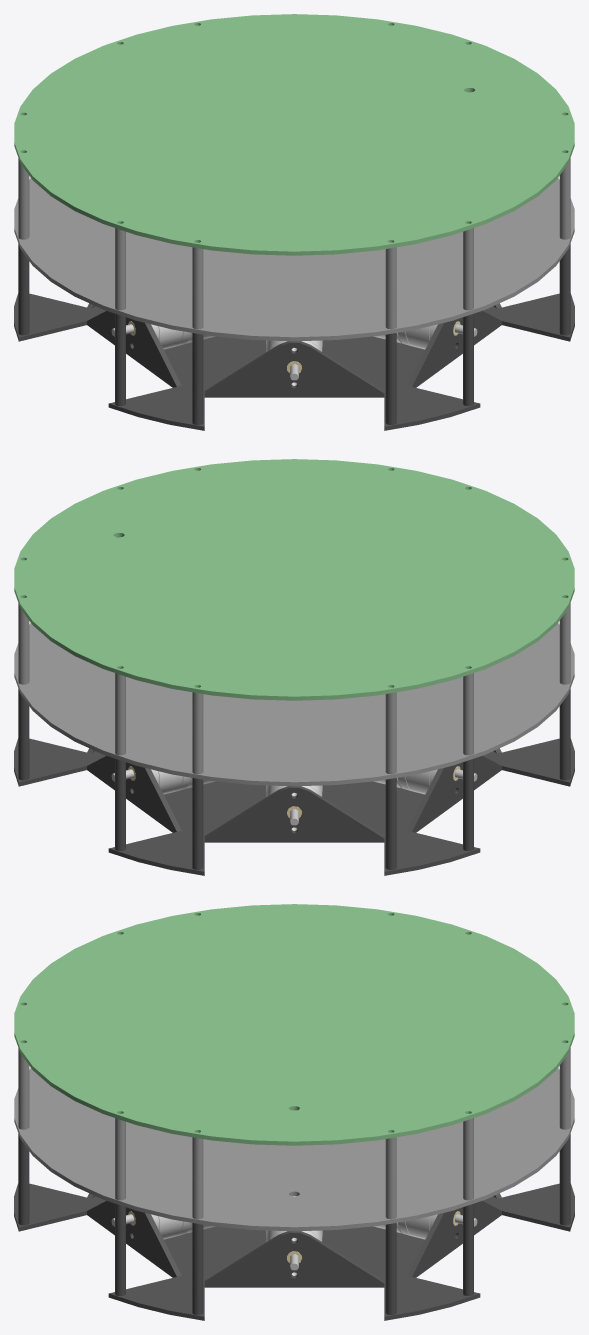
3 views of the same model, one above another, from view 1: azimuth 30°, elevation 25°; view 2: azimuth 150°, elevation 25°; view 3: azimuth 270°, elevation 25° (orthographic).
Parts seen in each view (by area): view 1: base_link_6; view 2: base_link_6; view 3: base_link_6.
Boxes of the visible parts, bbox=[...] form: base_link_6: bbox=[14, 14, 574, 430]; base_link_6: bbox=[14, 459, 574, 875]; base_link_6: bbox=[14, 904, 574, 1320].
Bounding box in the file's own units: 0.25 × 0.2495 × 0.091.
